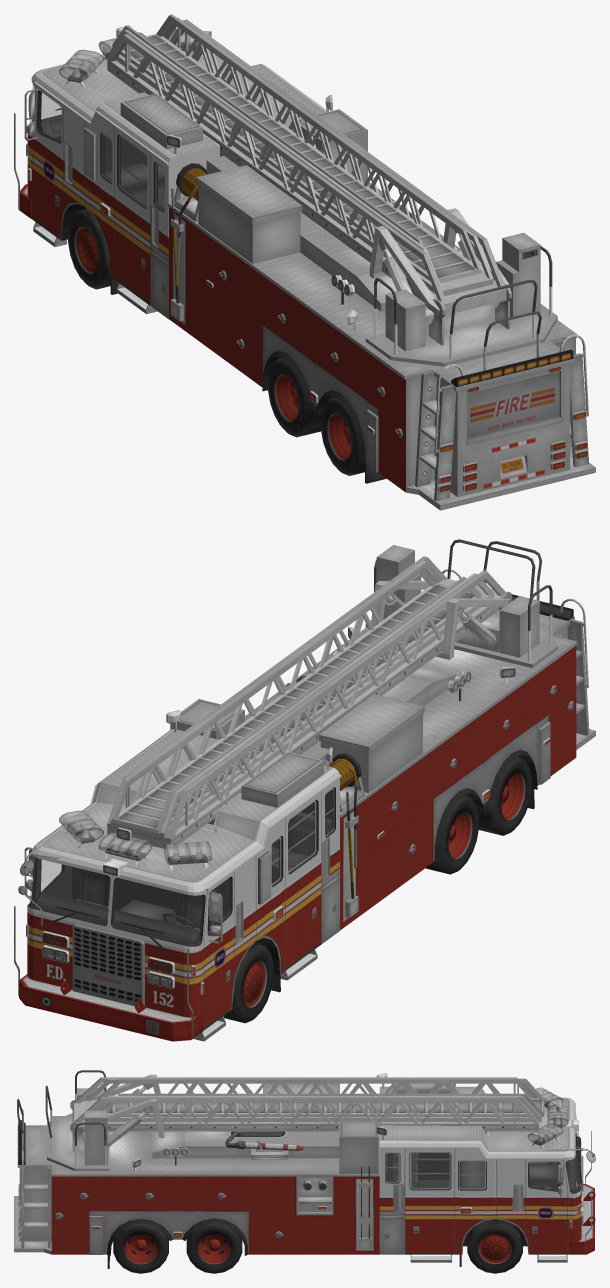
The model's file is 消防车Draco.glb.
The picture shows the model from 3 angles, top to bottom: view 1: azimuth 30°, elevation 25°; view 2: azimuth 150°, elevation 25°; view 3: azimuth 270°, elevation 25°; orthographic projection. The views are drawn at different scales.
Parts seen in each view (by area): view 1: FireTruck01_FireTruck01_0, FireTruck01_FireTruck01Glass_0, WheelBL006_FireTruck01_0, WheelFL006_FireTruck01_0, WheelBL_FireTruck01_0; view 2: FireTruck01_FireTruck01_0, FireTruck01_FireTruck01Glass_0, WheelBL_FireTruck01_0, WheelFL006_FireTruck01_0, WheelBL006_FireTruck01_0; view 3: FireTruck01_FireTruck01_0, FireTruck01_FireTruck01Glass_0, WheelFR005_FireTruck01_0, WheelBR006_FireTruck01_0, WheelBR_FireTruck01_0.
Part boxes in pixels (bbox=[...]): FireTruck01_FireTruck01_0: bbox=[14, 14, 595, 510]; FireTruck01_FireTruck01Glass_0: bbox=[30, 29, 211, 211]; WheelBL006_FireTruck01_0: bbox=[268, 358, 322, 437]; WheelFL006_FireTruck01_0: bbox=[68, 209, 110, 289]; WheelBL_FireTruck01_0: bbox=[321, 397, 364, 475]; FireTruck01_FireTruck01_0: bbox=[14, 539, 595, 1041]; FireTruck01_FireTruck01Glass_0: bbox=[29, 788, 334, 944]; WheelBL_FireTruck01_0: bbox=[477, 756, 531, 835]; WheelFL006_FireTruck01_0: bbox=[223, 942, 273, 1023]; WheelBL006_FireTruck01_0: bbox=[425, 795, 478, 874]; FireTruck01_FireTruck01_0: bbox=[14, 1070, 595, 1268]; FireTruck01_FireTruck01Glass_0: bbox=[385, 1087, 579, 1192]; WheelFR005_FireTruck01_0: bbox=[467, 1219, 522, 1273]; WheelBR006_FireTruck01_0: bbox=[186, 1222, 242, 1273]; WheelBR_FireTruck01_0: bbox=[113, 1223, 168, 1273].
Size of the model in its own units: 3.12 by 3.47 by 11.47.
Materials: 2 (2 with a texture image).
